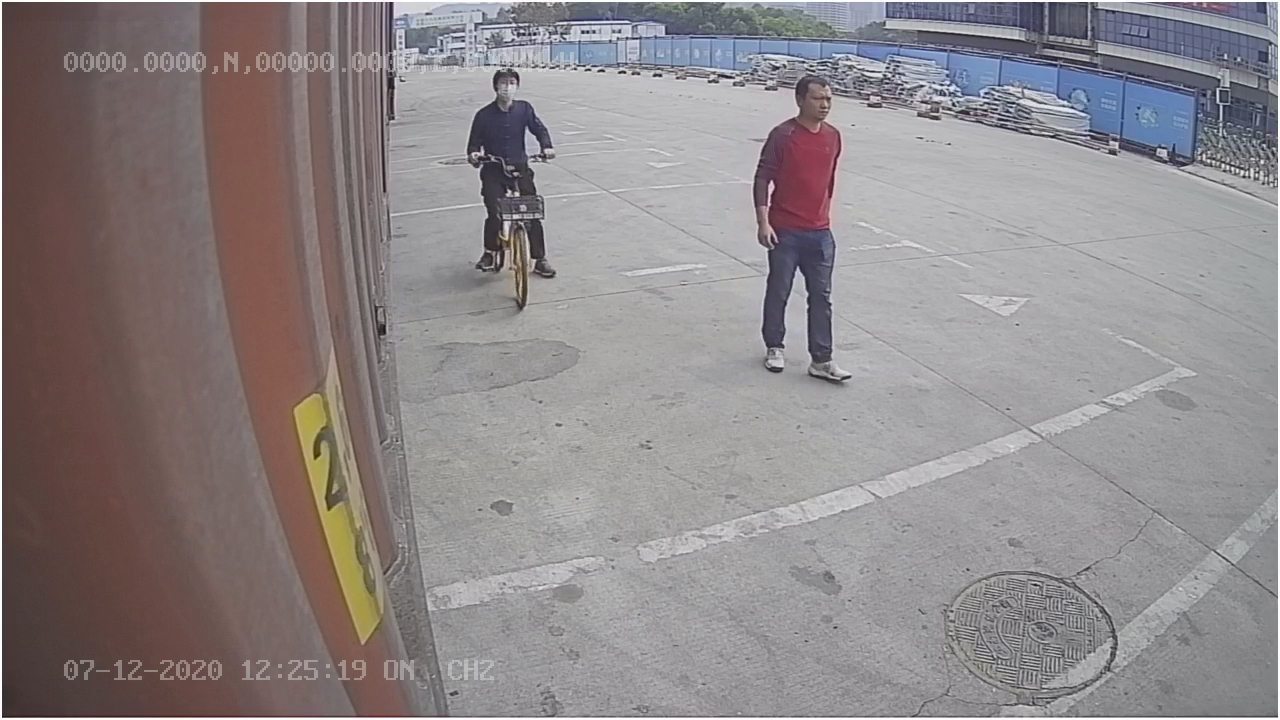person: (749, 69, 862, 386)
